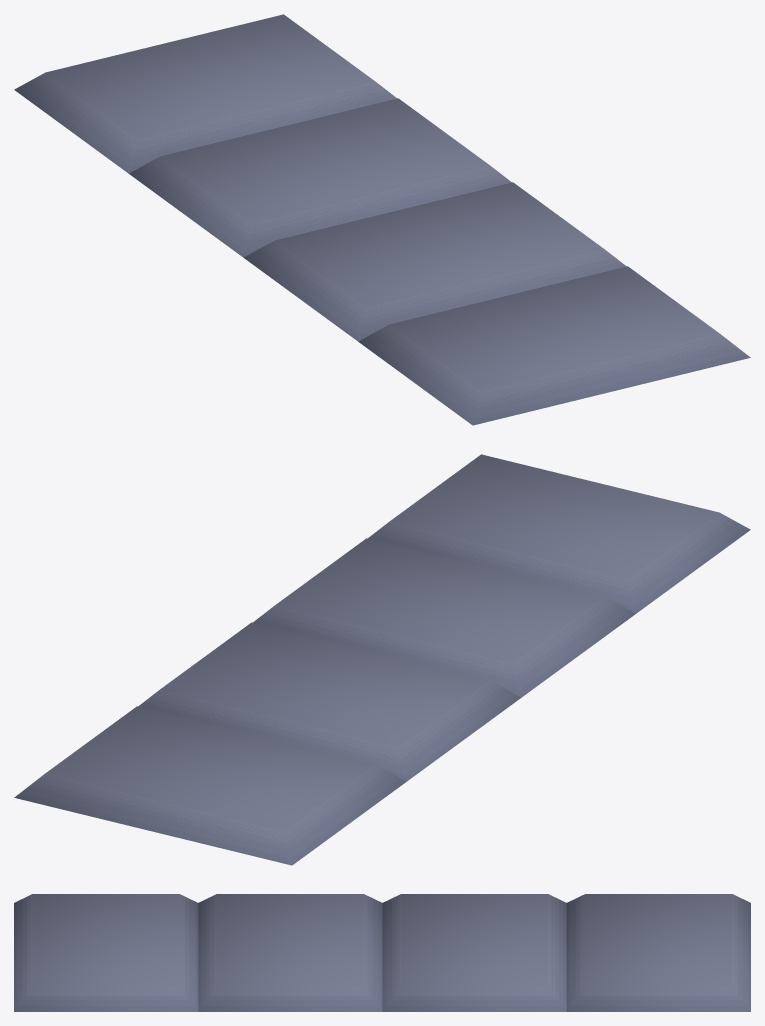
The model's file is path-stones-long.glb.
The picture shows the model from 3 angles, top to bottom: view 1: azimuth 30°, elevation 25°; view 2: azimuth 150°, elevation 25°; view 3: azimuth 270°, elevation 25°; orthographic projection. The views are drawn at different scales.
Parts seen in each view (by area): view 1: path-stones-long; view 2: path-stones-long; view 3: path-stones-long.
Part boxes in pixels (left/top/right/bottom): path-stones-long: left=14, top=14, right=750, bottom=425; path-stones-long: left=14, top=454, right=750, bottom=865; path-stones-long: left=14, top=894, right=750, bottom=1011.
Bounding box in the file's own units: 0.14 × 0.01 × 0.4.
1 material, 1 textured.
